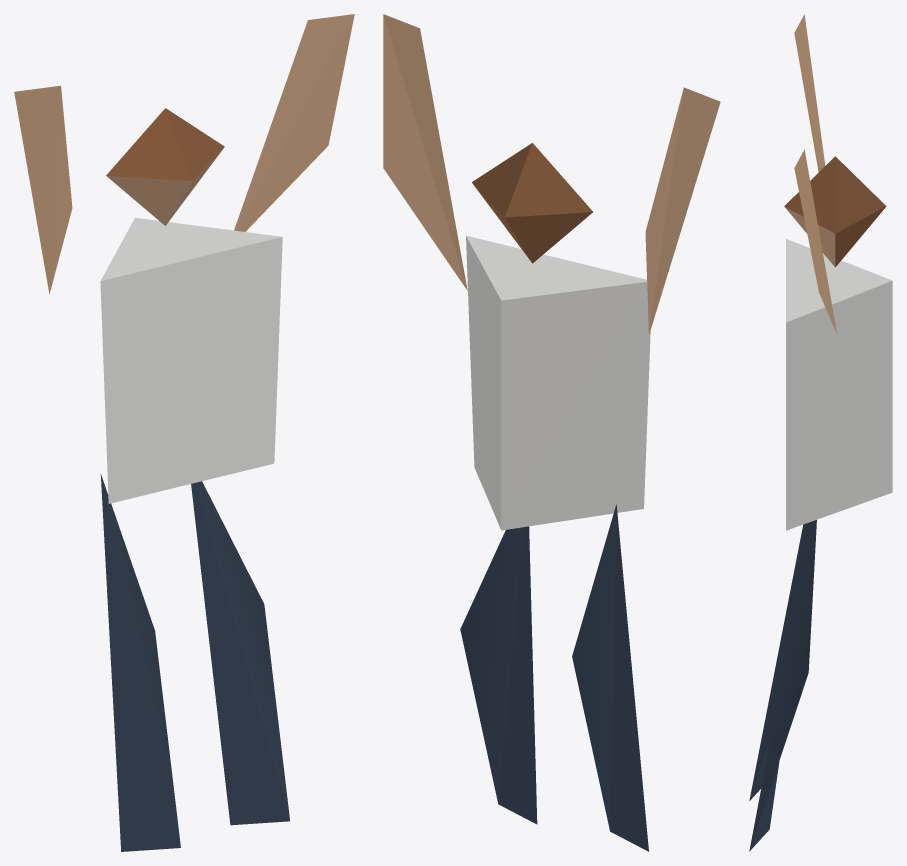
The model's file is fan-11.glb.
The picture shows the model from 3 angles, left to right: view 1: azimuth 30°, elevation 25°; view 2: azimuth 150°, elevation 25°; view 3: azimuth 270°, elevation 25°; orthographic projection. The views are drawn at different scales.
Visible parts, largest first — view 1: fan-11; view 2: fan-11; view 3: fan-11.
Part boxes in pixels (box(x1,y1,x2,y2)): fan-11: box(14, 14, 354, 851); fan-11: box(383, 14, 720, 851); fan-11: box(749, 14, 892, 851).
Bounding box in the file's own units: 0.89 × 1.95 × 0.35.
